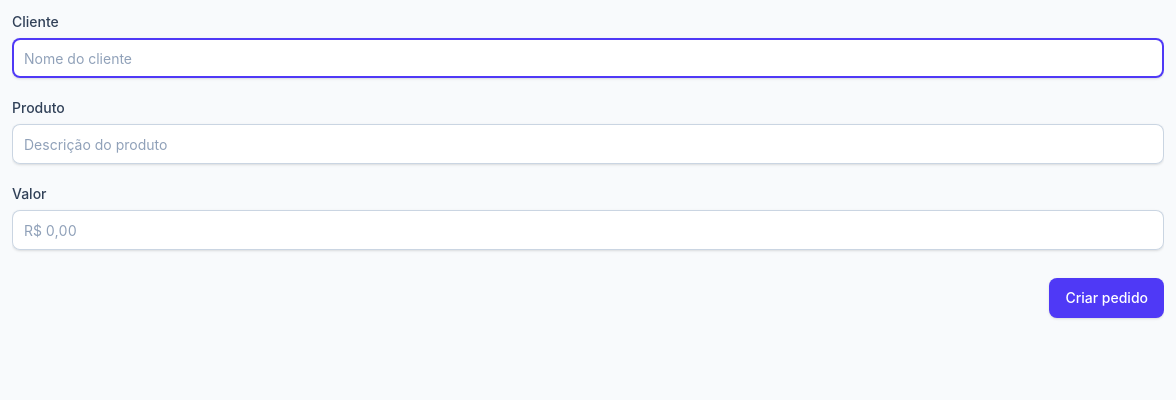
Test case: OrderForm › mostra erro geral quando a API falha sem detalhes por campo
Type "Fulano" into the field labelled "Cliente" at {"x": 588, "y": 58}, box [12, 38, 1164, 78]
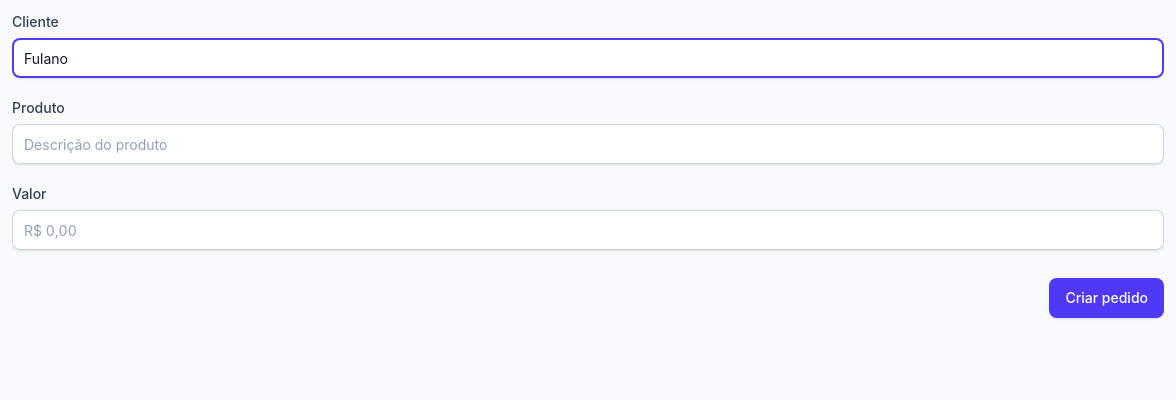
Type "Mouse" into the field labelled "Produto" at {"x": 588, "y": 144}, box [12, 124, 1164, 164]
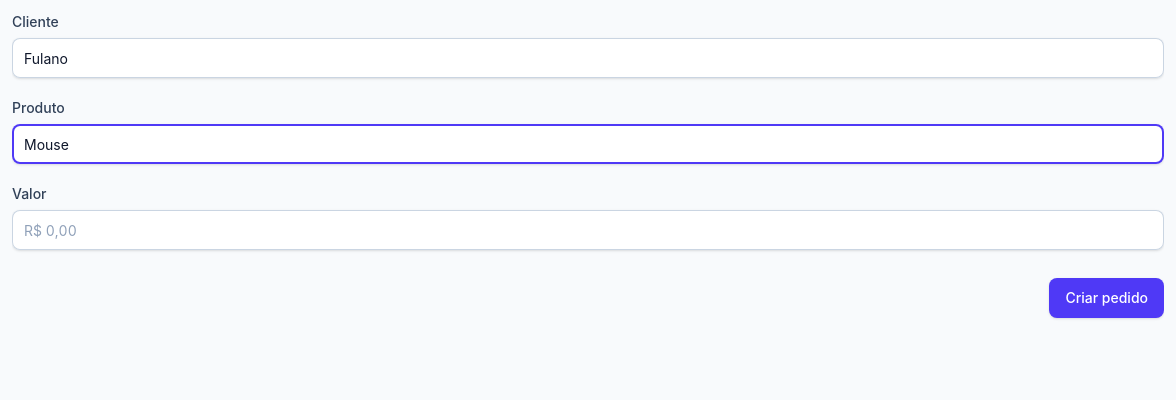
Type "1000" into the field labelled "Valor" at {"x": 588, "y": 230}, box [12, 210, 1164, 250]
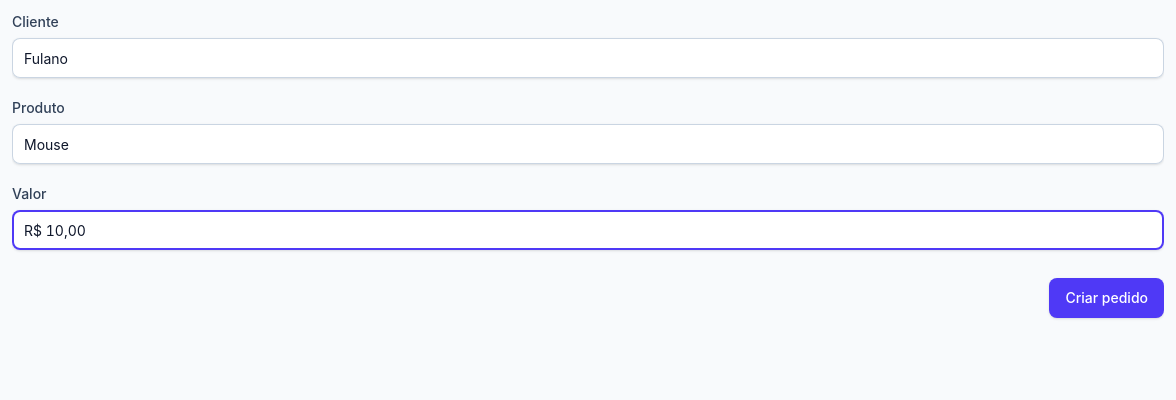
Click the button "Criar pedido" at {"x": 1107, "y": 298}, box [1049, 278, 1164, 318]
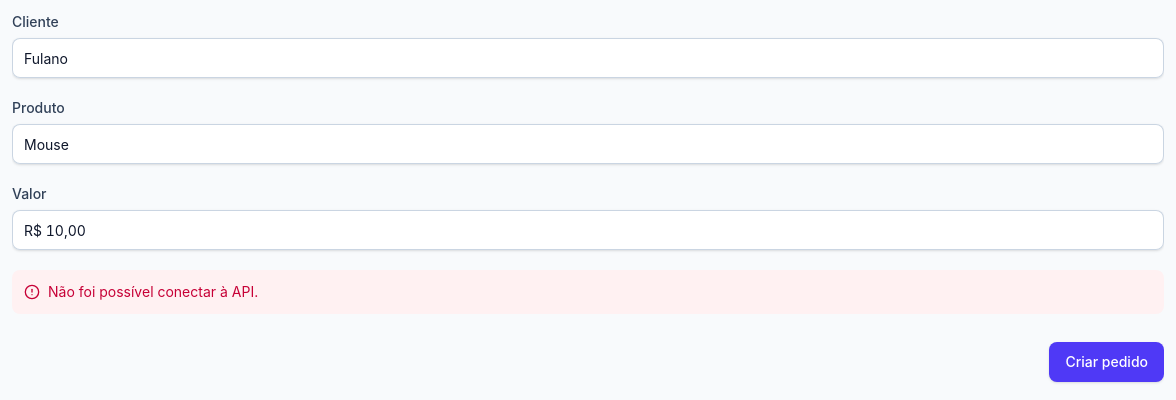
Result: the message reads "Não foi possível conectar à API." at [48, 283, 258, 300]
